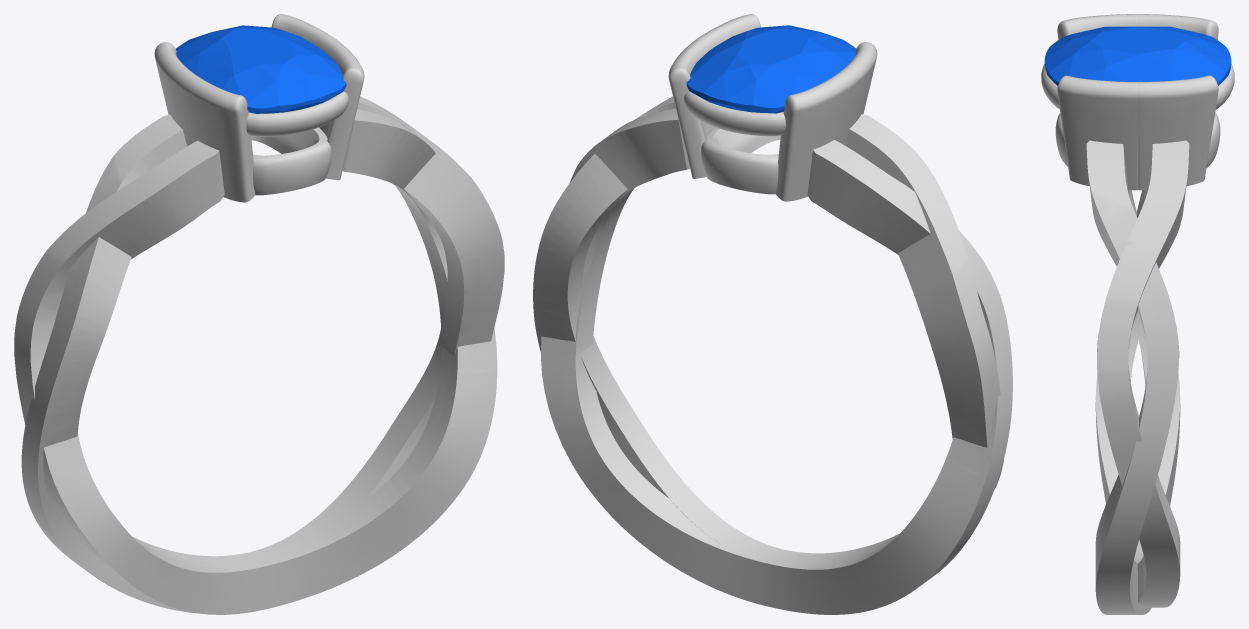
The model's file is bluesapphire-cushion-platinum-halfmoonbezel-twist-nosidestones.glb.
The picture shows the model from 3 angles, left to right: view 1: azimuth 30°, elevation 25°; view 2: azimuth 150°, elevation 25°; view 3: azimuth 270°, elevation 25°; orthographic projection.
Parts seen in each view (by area): view 1: metal.003, stone; view 2: metal.003, stone; view 3: metal.003, stone.
Part boxes in pixels (left/top/right/bottom): metal.003: left=14, top=14, right=504, bottom=614; stone: left=176, top=25, right=346, bottom=113; metal.003: left=533, top=14, right=1012, bottom=614; stone: left=686, top=25, right=855, bottom=113; metal.003: left=1041, top=14, right=1234, bottom=614; stone: left=1044, top=26, right=1231, bottom=85.
Size of the model in its own units: 19.97 by 23.14 by 7.42.
